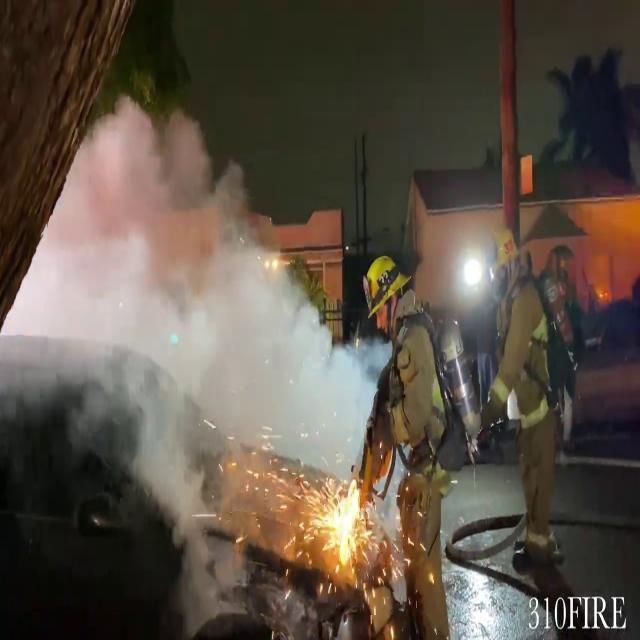Smoke: (1, 81, 360, 542)
